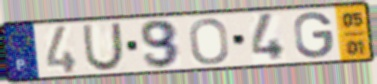4: (249, 11, 287, 65), (44, 23, 80, 76)
9: (138, 18, 183, 70)
G: (292, 10, 336, 60)
O: (188, 17, 232, 67)
U: (80, 21, 126, 73)
